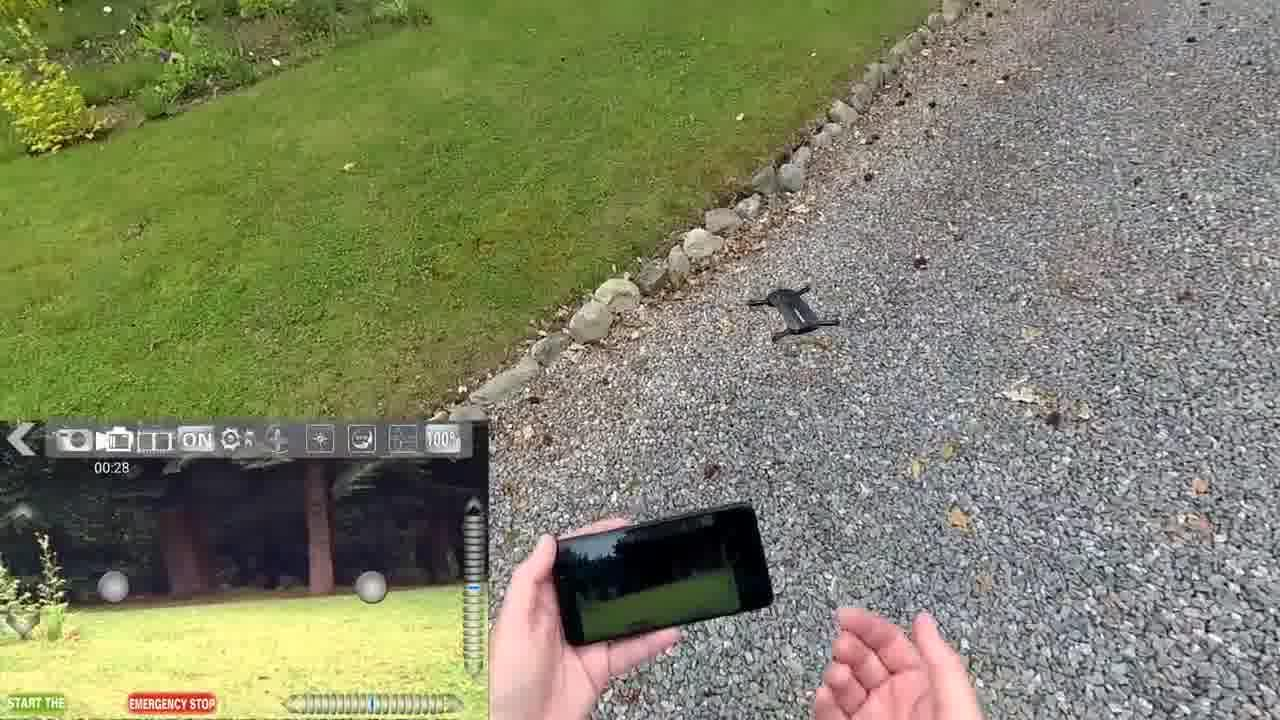drone: (741, 278, 846, 348)
